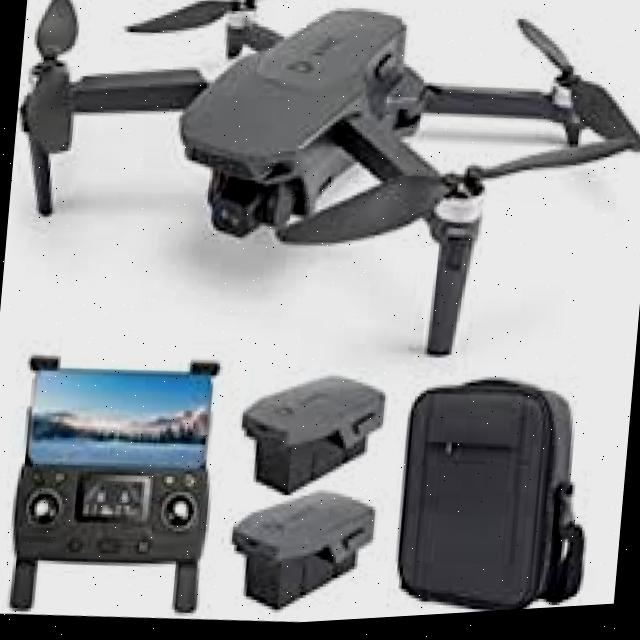drone: (0, 0, 640, 404)
